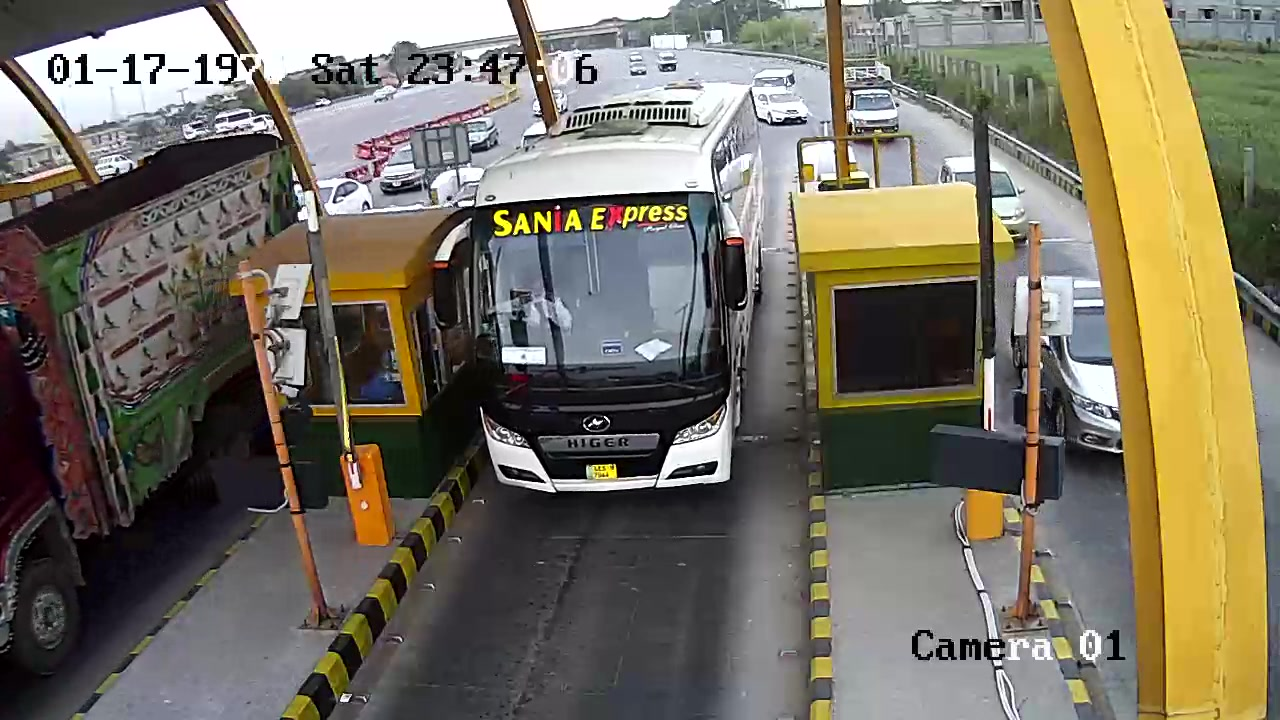F4: (462, 79, 776, 498)
